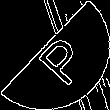P_NW: (23, 24, 87, 86)
